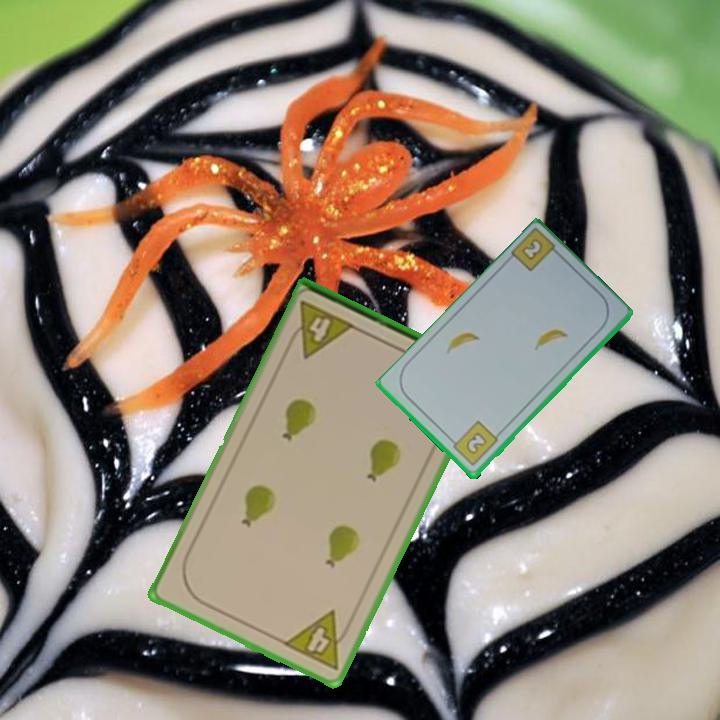2b: (446, 418, 501, 469), (518, 235, 546, 264)
4p: (279, 607, 357, 674), (283, 297, 358, 362)
